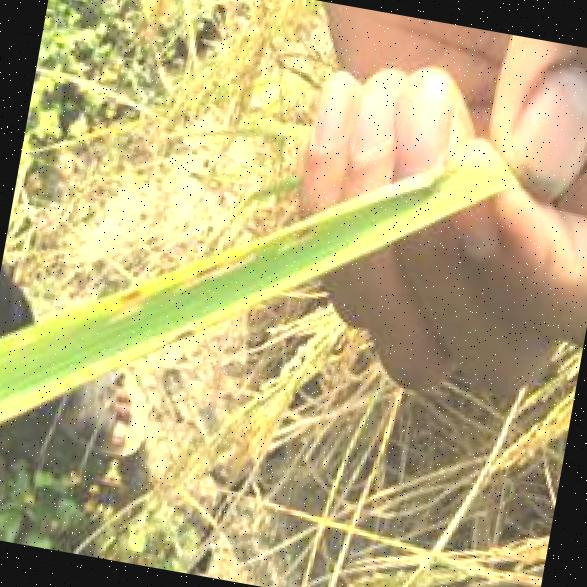Brown_Spot: (181, 238, 256, 280), (280, 204, 321, 241), (112, 273, 144, 301)
